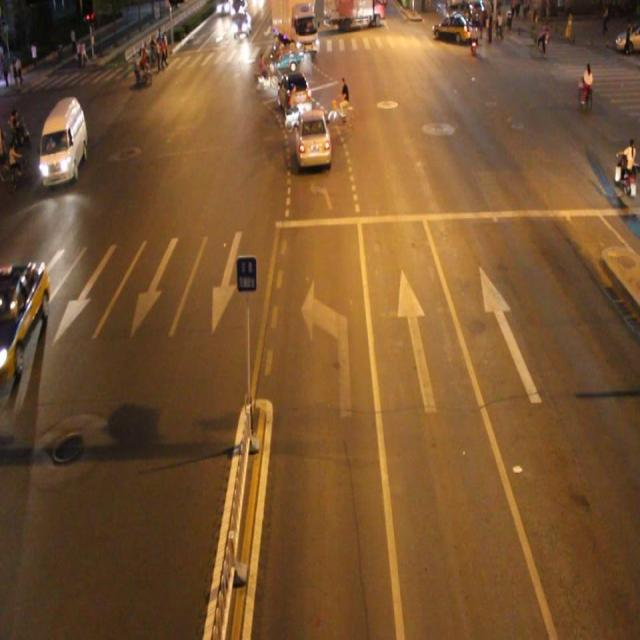car: (1, 260, 48, 374), (293, 108, 332, 171), (276, 70, 311, 116)
truck: (39, 96, 87, 186)
